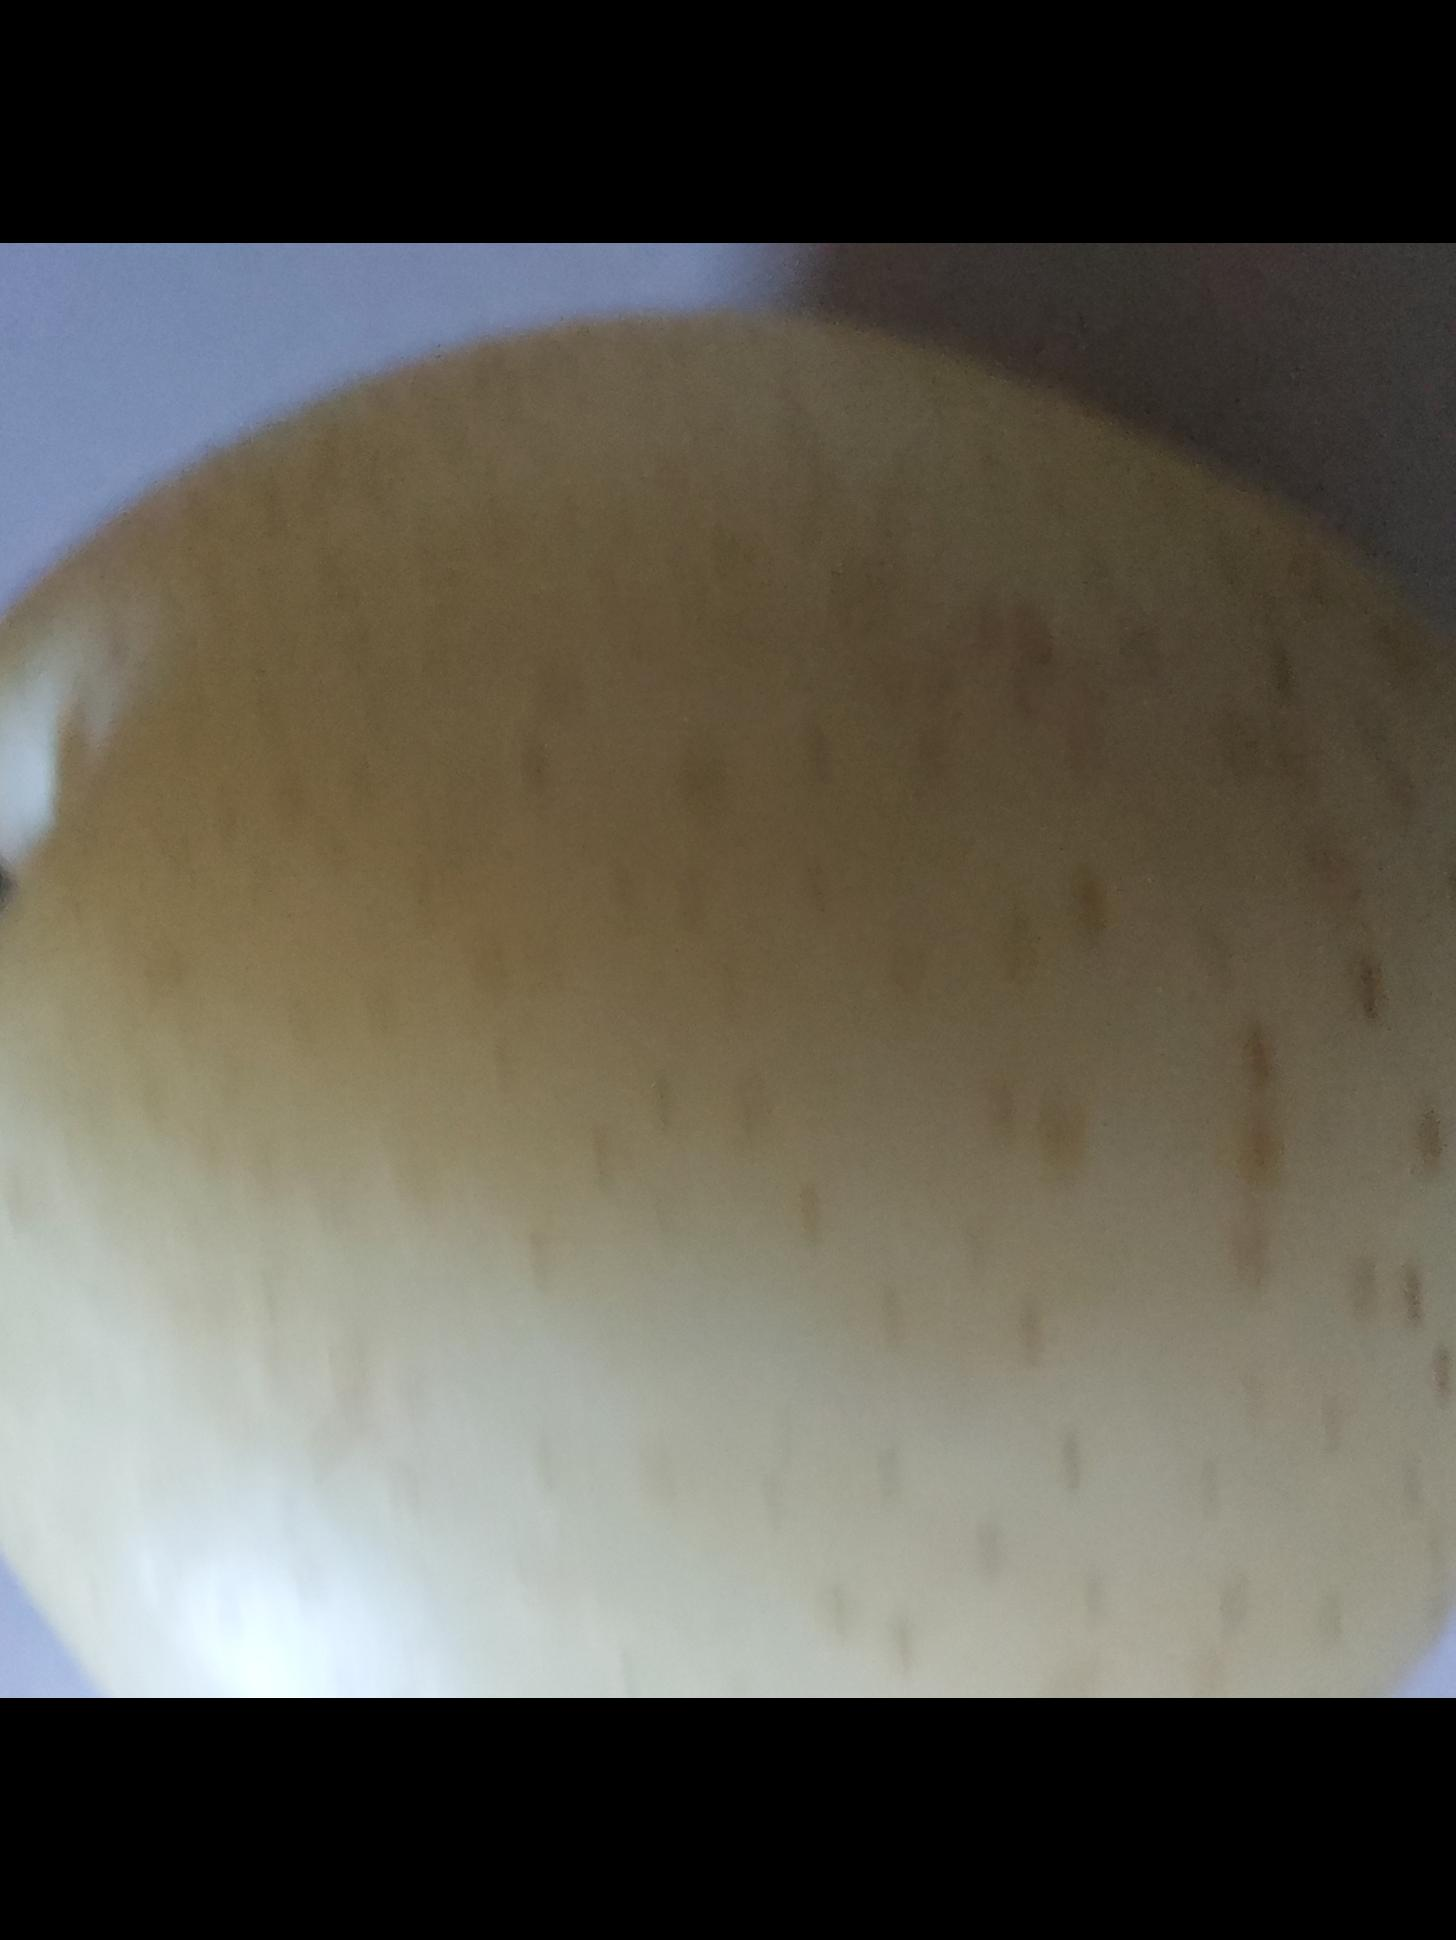Good Pear: (0, 287, 1456, 1698)
